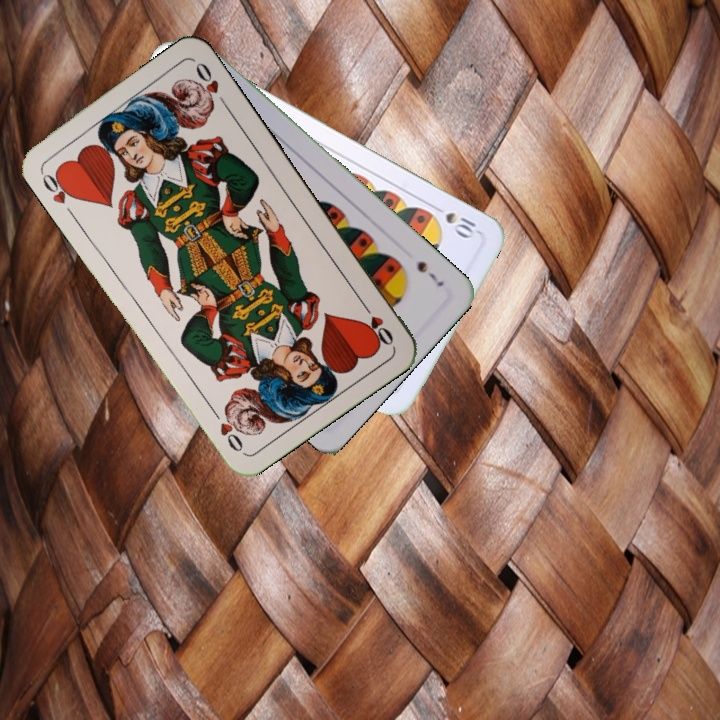HO: (356, 297, 397, 349), (36, 165, 80, 207)
S10: (440, 207, 481, 241)
S7: (412, 257, 447, 289)
